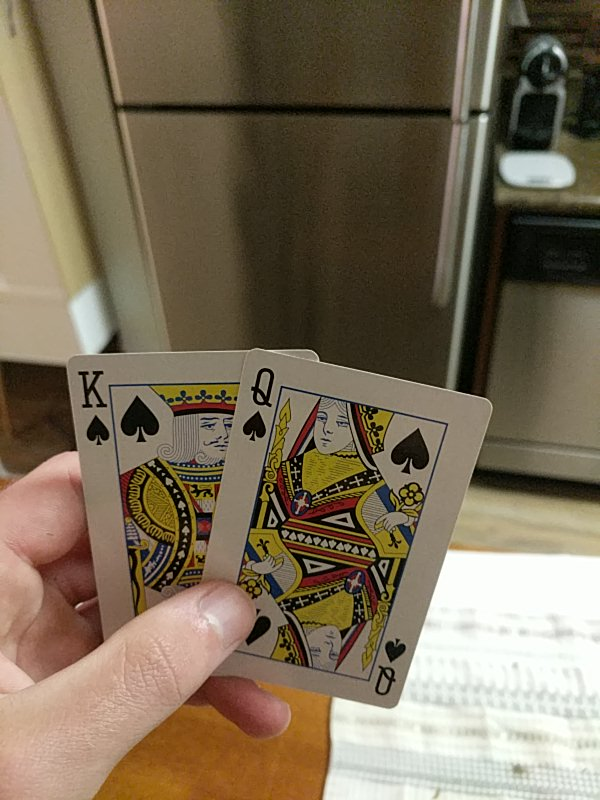Spades: (196, 351, 493, 711), (62, 349, 322, 692)
